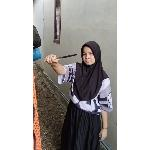Pisau: (42, 53, 80, 65)
